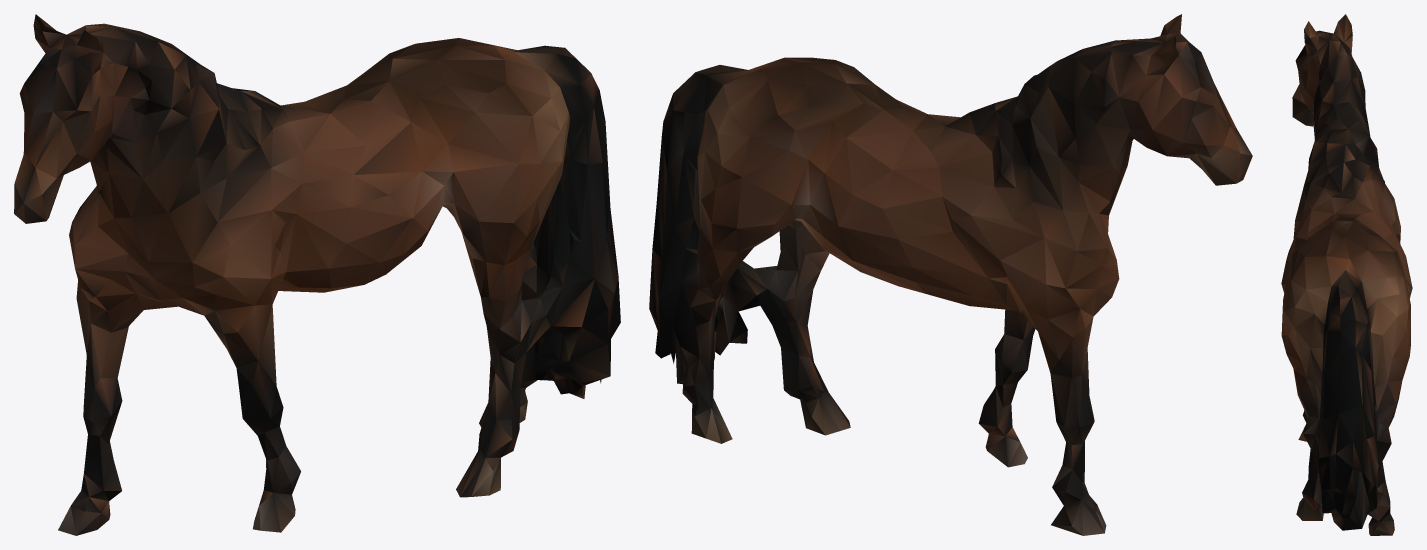
Rendered from horse_walk_b.glb.
The picture shows the model from 3 angles, left to right: view 1: azimuth 30°, elevation 25°; view 2: azimuth 150°, elevation 25°; view 3: azimuth 270°, elevation 25°; orthographic projection. The views are drawn at different scales.
Visible parts, largest first — view 1: horse_walk_b; view 2: horse_walk_b; view 3: horse_walk_b.
Boxes of the visible parts, x1,y1,x2,y2 form: horse_walk_b: (14,14,620,535); horse_walk_b: (649,14,1252,535); horse_walk_b: (1281,14,1412,535).
Size of the model in its own units: 6.98 by 5.99 by 1.93.
